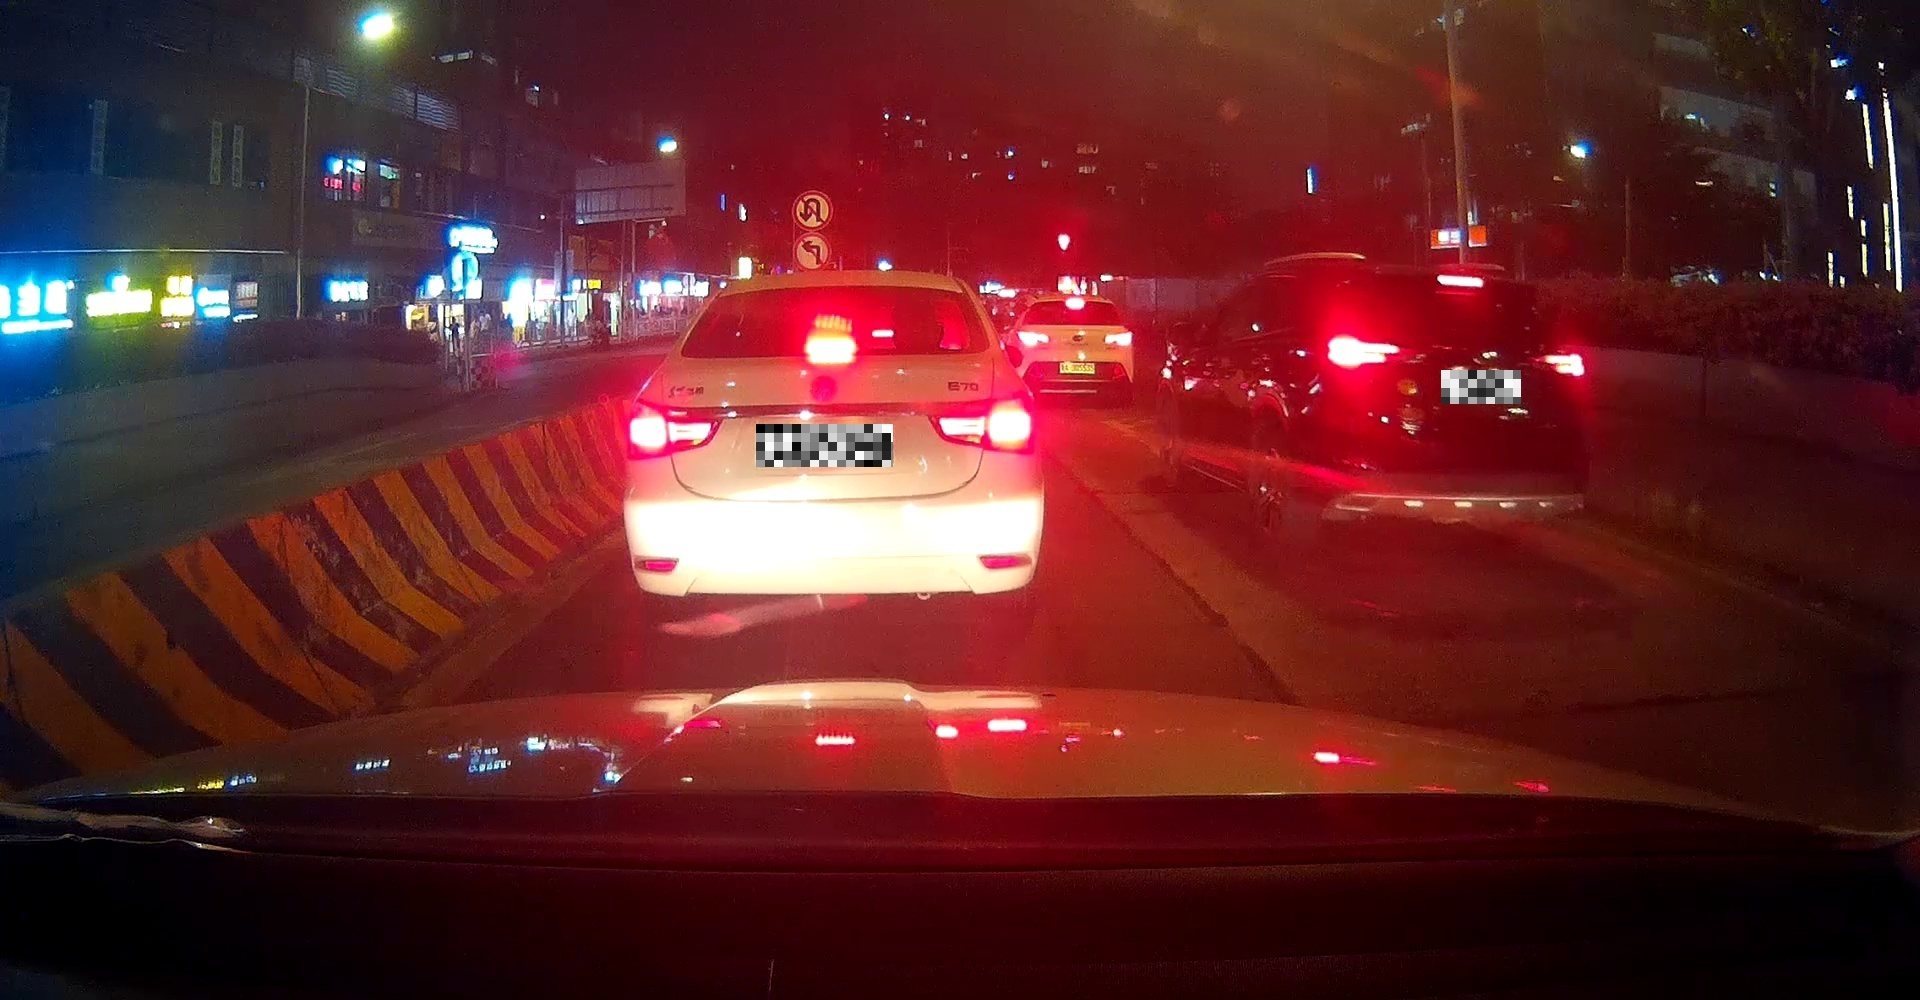L_light: (623, 398, 723, 462), (1326, 336, 1399, 369)
R_light: (927, 388, 1037, 453), (1537, 353, 1585, 376)
T_light: (804, 338, 856, 355), (1437, 274, 1483, 288)
night-brake: (622, 270, 1046, 628), (1314, 265, 1590, 544)
plate_1: (756, 424, 893, 467)
plate_2: (1441, 371, 1521, 404)
